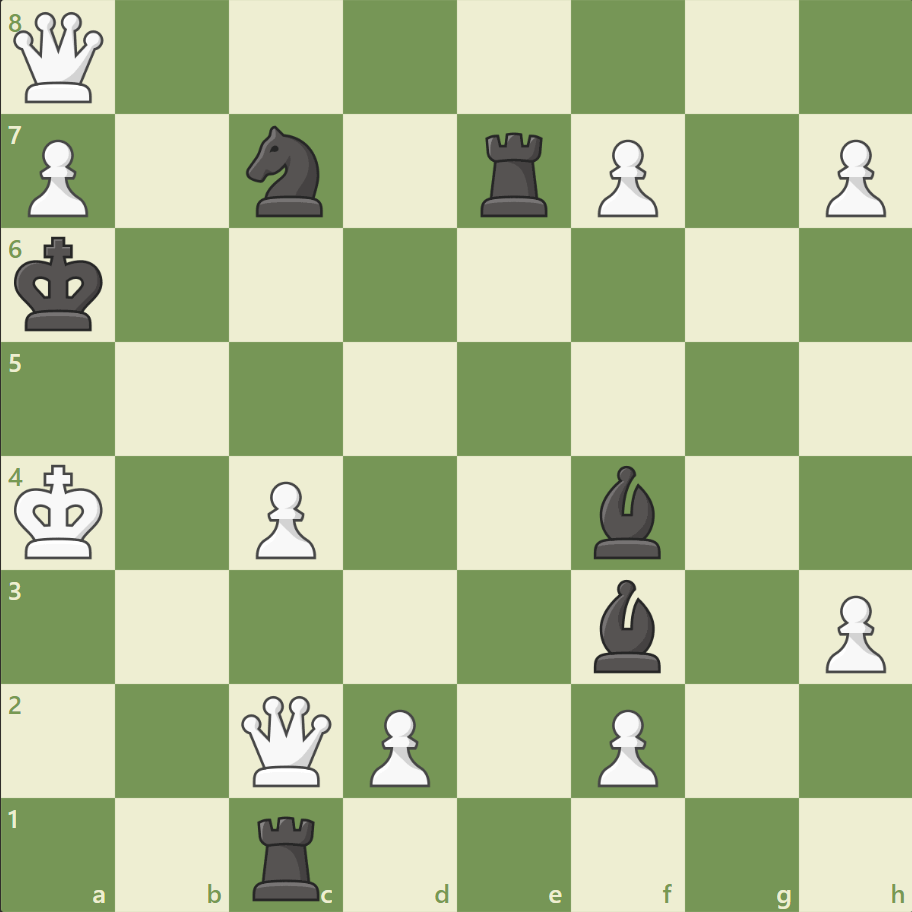K: (11, 458, 111, 566)
P: (20, 132, 95, 223), (247, 473, 322, 564), (588, 132, 662, 223), (815, 132, 889, 223), (815, 586, 889, 677), (361, 700, 435, 791), (588, 700, 662, 791)
Q: (10, 9, 109, 108), (237, 690, 336, 789)
b: (585, 460, 669, 563), (585, 574, 669, 676)
k: (11, 231, 111, 339)
n: (238, 121, 335, 223)
r: (246, 806, 329, 904), (473, 125, 556, 222)
